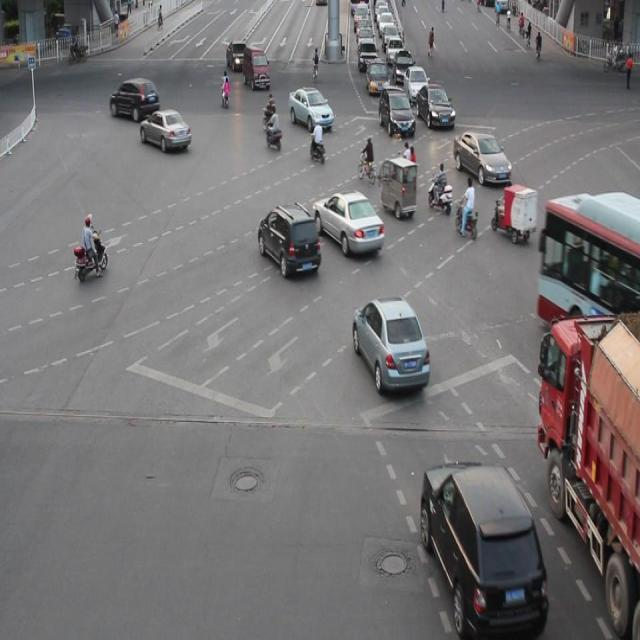BigCar: (539, 296, 640, 576), (534, 165, 640, 333)
car: (413, 438, 546, 630), (349, 289, 446, 407), (302, 147, 376, 270), (242, 178, 318, 293), (288, 71, 347, 154), (453, 126, 508, 203), (136, 110, 201, 162), (374, 88, 426, 147), (238, 36, 280, 106), (386, 141, 413, 241), (498, 180, 532, 258), (105, 69, 158, 116), (427, 79, 460, 134), (222, 20, 246, 90)
